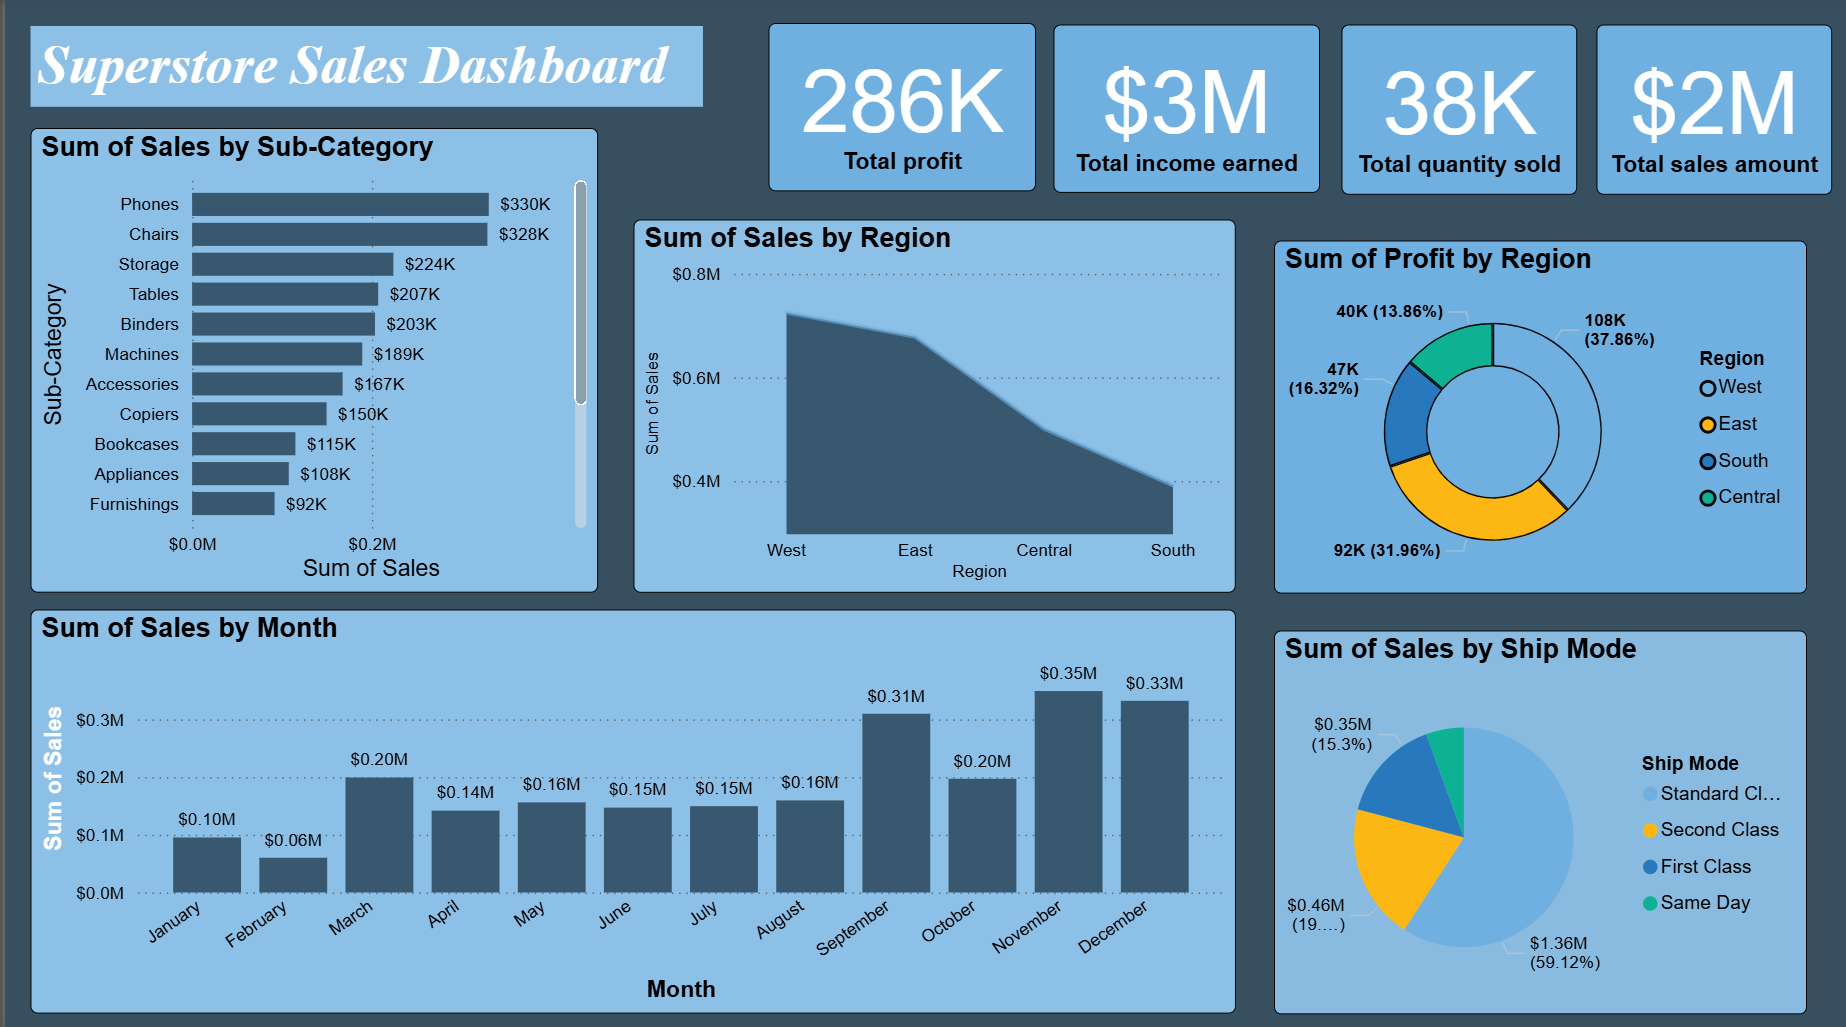

Layout of this report page (visuals, bound fields, positions):
{"tool":"powerbi","page":{"name":"Page 1","canvas":[1280,720],"ordinal":0},"visuals":[{"type":"areaChart","fields":{"Category":["Orders.Region"],"Y":["Sum(Orders.Sales)"]},"box":[435.4,155.3,417.6,258.5],"z":0},{"type":"donutChart","fields":{"Category":["Orders.Region"],"Y":["Sum(Orders.Profit)"]},"box":[879.8,169.3,369.2,244.5],"z":1000},{"type":"textbox","box":[17.8,20.4,466,56],"z":2000},{"type":"card","fields":{"Values":["Orders.Total quantity sold"]},"box":[926.1,20,163.4,117.8],"z":3000},{"type":"card","fields":{"Values":["Orders.Total profit"]},"box":[529.2,18.9,185.7,116.7],"z":4000},{"type":"card","fields":{"Values":["Orders.Total income earned"]},"box":[727.1,20,184.6,116.7],"z":5000},{"type":"card","fields":{"Values":["Orders.Total sales amount"]},"box":[1102.9,20,163.4,117.8],"z":6000},{"type":"pieChart","fields":{"Y":["Sum(Orders.Sales)"],"Category":["Orders.Ship Mode"]},"box":[879.8,439.3,369.2,266.1],"z":7000},{"type":"lineStackedColumnComboChart","fields":{"Category":["Orders.Order Date.Variation.Date Hierarchy.Month"],"Y":["Sum(Orders.Sales)"]},"box":[17.8,425.3,835.2,280.1],"z":8000},{"type":"barChart","fields":{"Category":["Orders.Sub-Category"],"Y":["Sum(Orders.Sales)"]},"box":[17.8,91.7,393.4,322.1],"z":9000}]}

Visuals, with their boxes in screenshot pixels (x1, y1, x2, y2), scaled from the page's 1280x720 canvas onto the 1846x1027 screenshot:
areaChart - Orders.Region x Sum(Orders.Sales): bbox=[628, 222, 1230, 590]
donutChart - Orders.Region x Sum(Orders.Profit): bbox=[1269, 241, 1801, 590]
textbox: bbox=[26, 29, 698, 109]
card - Orders.Total quantity sold: bbox=[1336, 29, 1571, 197]
card - Orders.Total profit: bbox=[763, 27, 1031, 193]
card - Orders.Total income earned: bbox=[1049, 29, 1315, 195]
card - Orders.Total sales amount: bbox=[1591, 29, 1826, 197]
pieChart - Sum(Orders.Sales) x Orders.Ship Mode: bbox=[1269, 627, 1801, 1006]
lineStackedColumnComboChart - Orders.Order Date.Variation.Date Hierarchy.Month x Sum(Orders.Sales): bbox=[26, 607, 1230, 1006]
barChart - Orders.Sub-Category x Sum(Orders.Sales): bbox=[26, 131, 593, 590]
